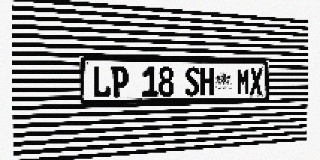1: (142, 66, 158, 97)
8: (159, 67, 174, 97)
H: (200, 67, 214, 96)
L: (93, 66, 111, 98)
M: (236, 68, 250, 95)
P: (111, 66, 129, 97)
S: (185, 67, 200, 96)
X: (250, 68, 263, 95)
